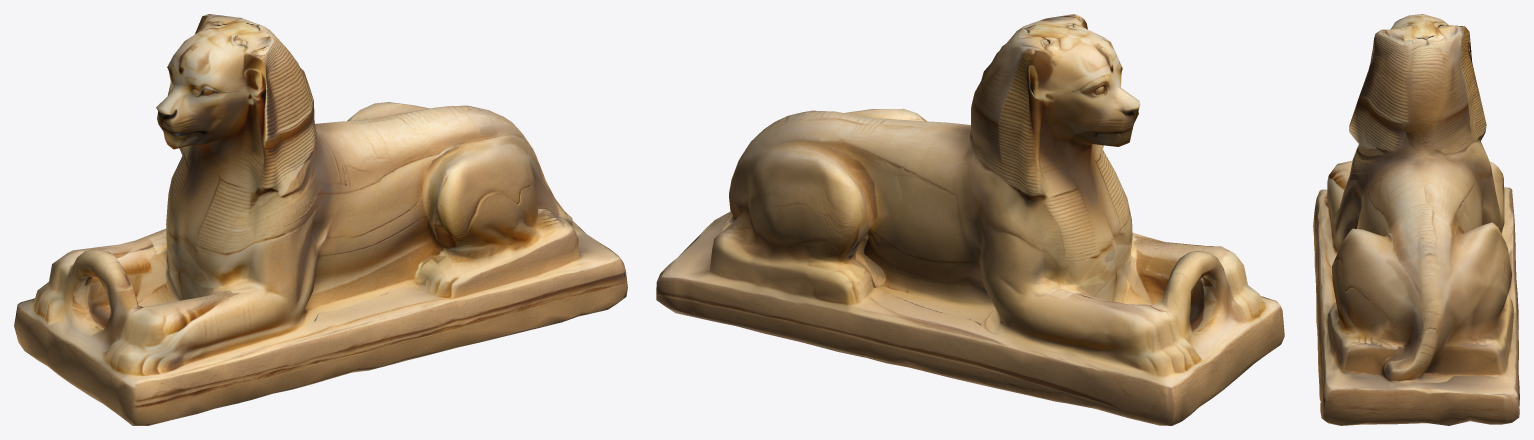
Rendered from sphinx.glb.
3 renders of one model, left to right at view 1: azimuth 30°, elevation 25°; view 2: azimuth 150°, elevation 25°; view 3: azimuth 270°, elevation 25°, orthographic. The views are drawn at different scales.
Size of the model in its own units: 2.01 by 1.19 by 0.8473.
1 material, 1 textured.
